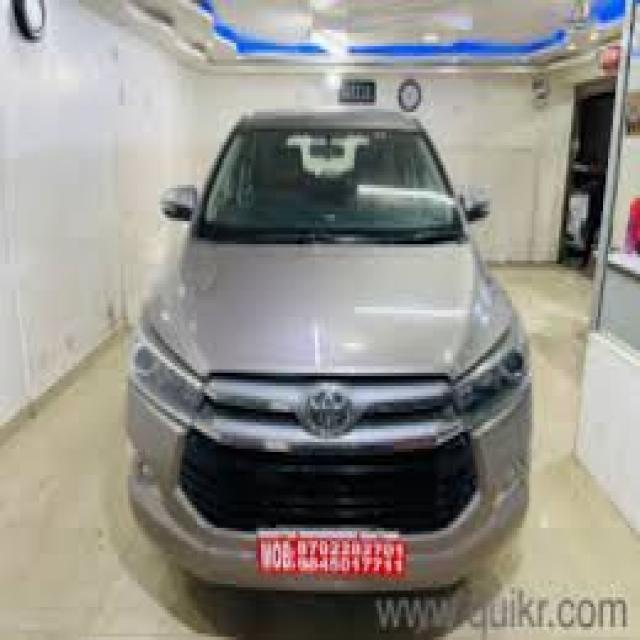light_vehicle: (125, 107, 532, 591)
